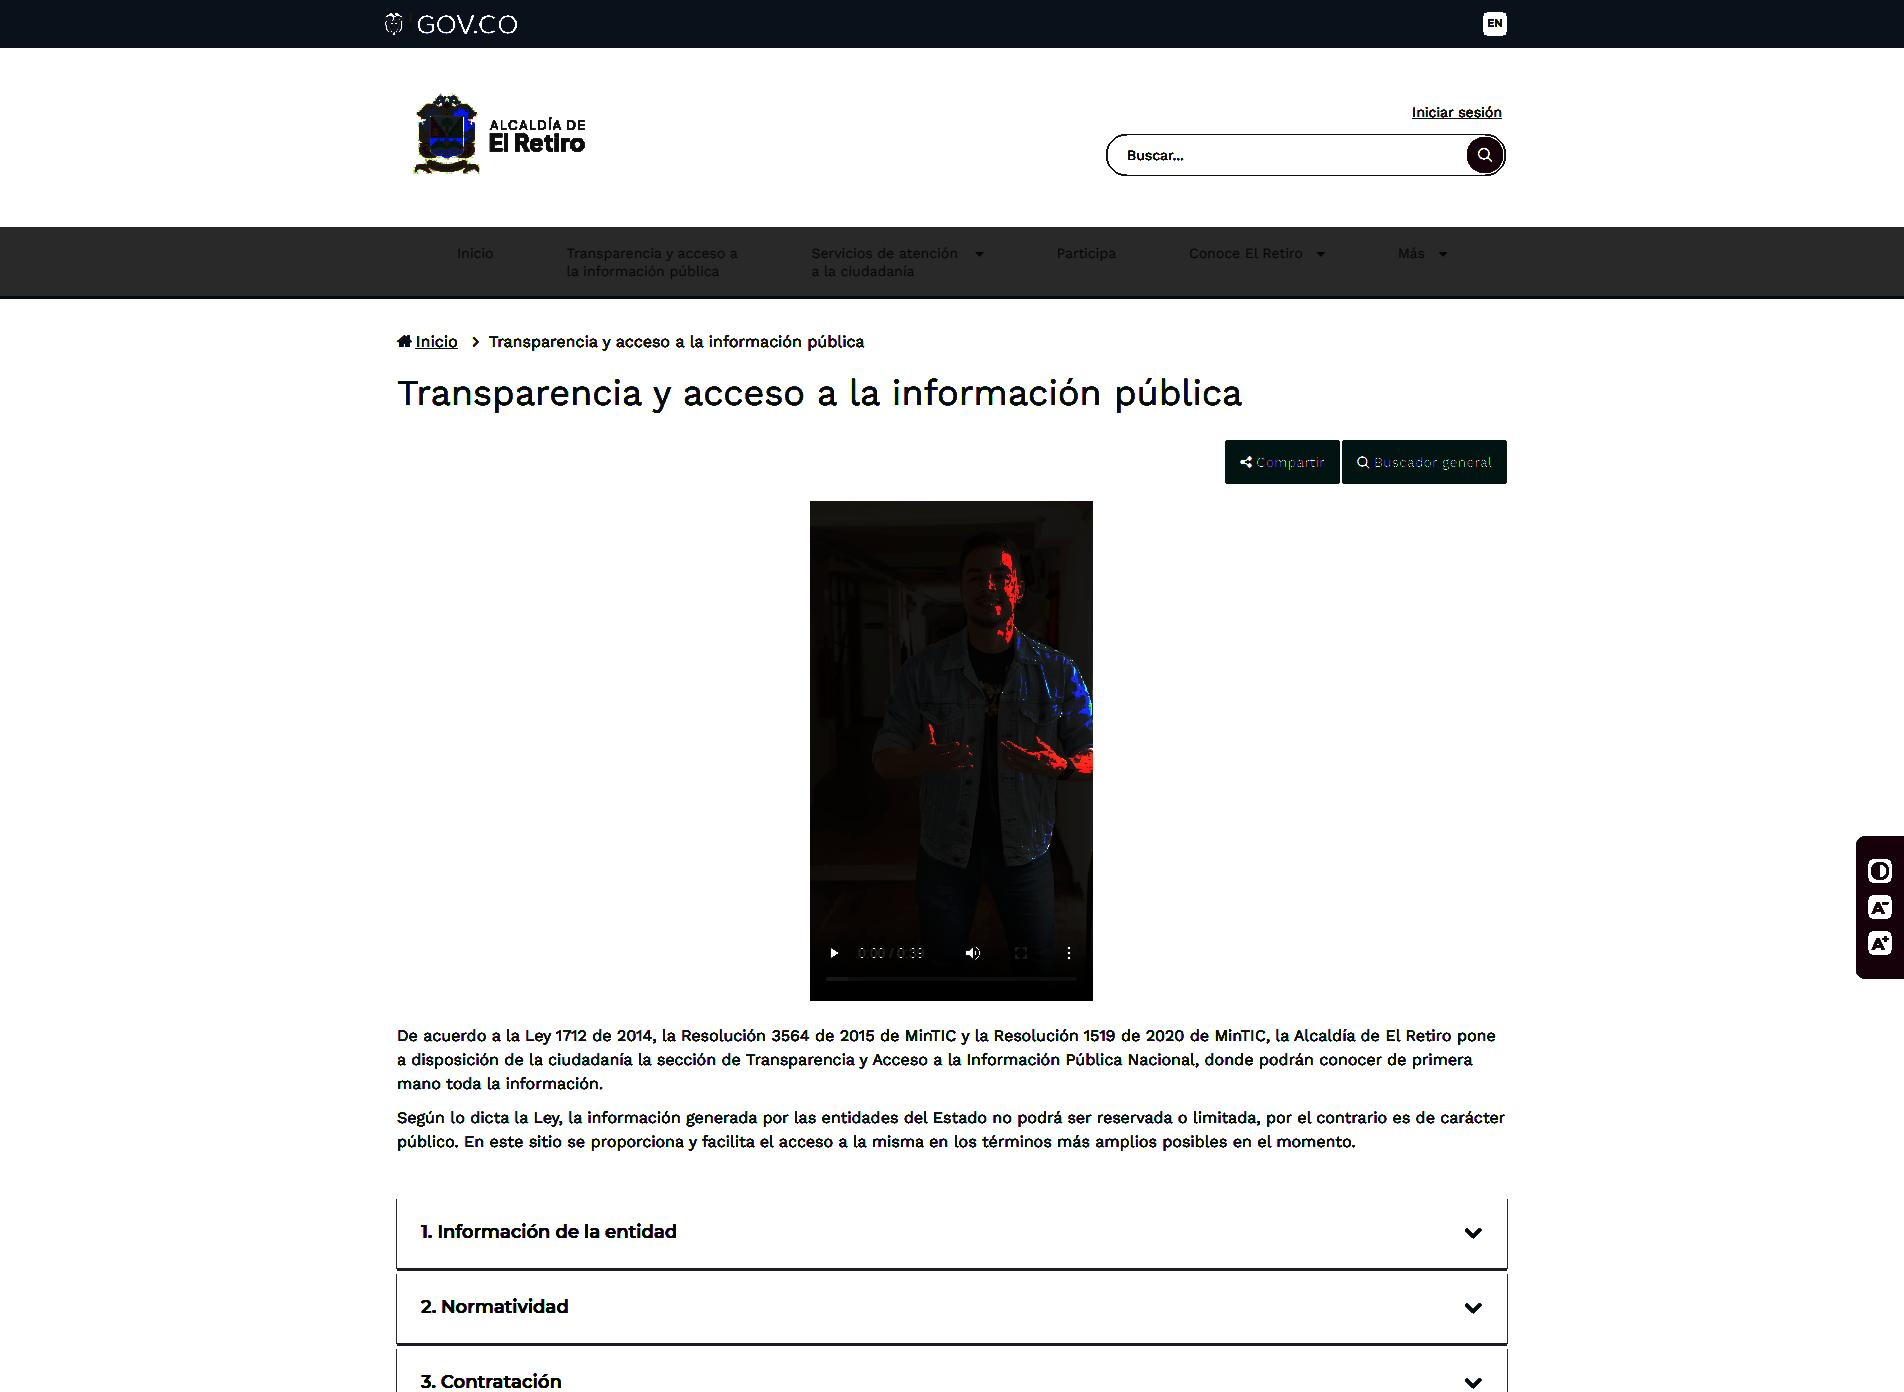barra accesibilidad: (1853, 834, 1904, 982)
barra govco: (380, 1, 1514, 50)
btn atencion ciudadano: (807, 244, 987, 280)
btn buscador: (1103, 130, 1509, 178), (1465, 134, 1506, 176), (1355, 453, 1373, 474)
btn idiomas: (1482, 12, 1508, 36)
btn inicio: (413, 330, 463, 353), (455, 246, 496, 263)
btn inicio sesion: (1409, 103, 1504, 124)
btn normatividad: (439, 1295, 573, 1318)
btn participa: (1052, 244, 1123, 262)
btn transpariencia: (393, 373, 1244, 418), (484, 331, 868, 351), (564, 245, 744, 280)
logogovco: (380, 8, 522, 40)
menu principal: (453, 223, 1458, 289)
